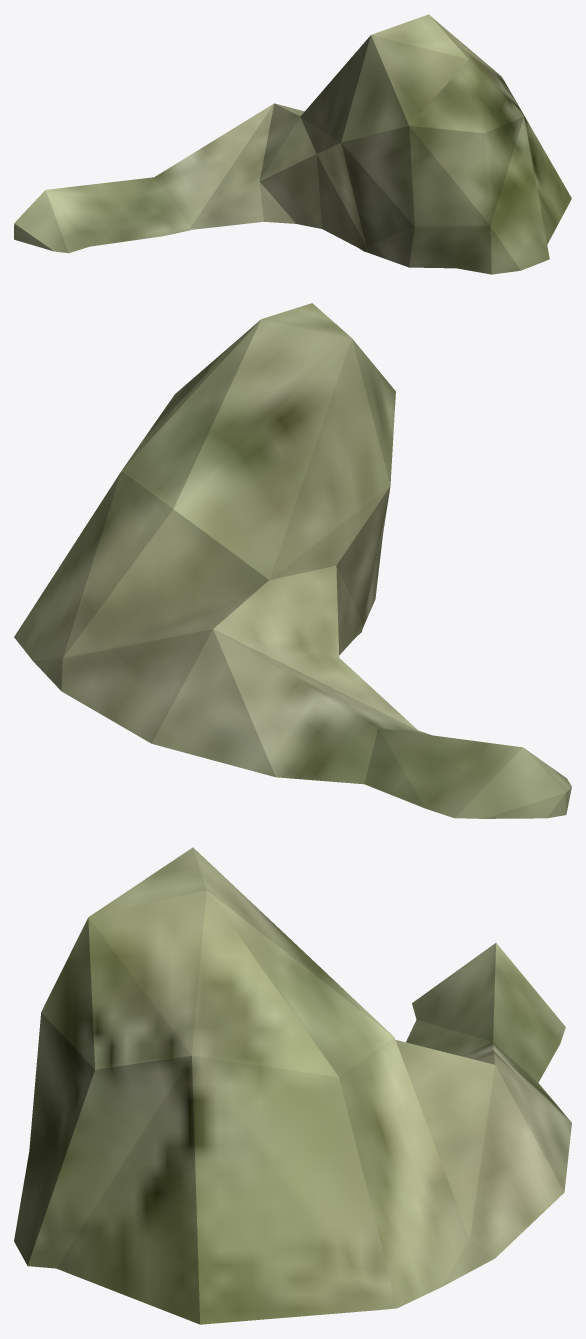
3 renders of one model, top to bottom at view 1: azimuth 30°, elevation 25°; view 2: azimuth 150°, elevation 25°; view 3: azimuth 270°, elevation 25°, orthographic. The views are drawn at different scales.
Size of the model in its own units: 1.21 by 0.5437 by 0.8337.
1 material, 1 textured.
